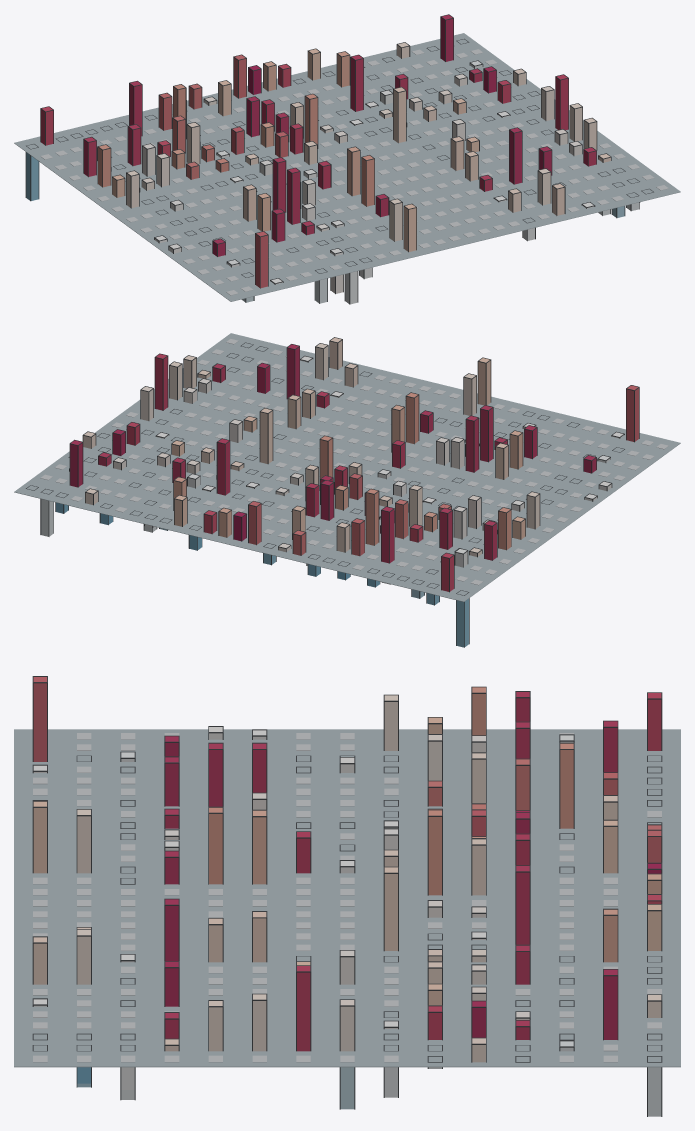
File: kilim_v4.glb
3 renders of one model, top to bottom at view 1: azimuth 30°, elevation 25°; view 2: azimuth 150°, elevation 25°; view 3: azimuth 270°, elevation 25°, orthographic. The views are drawn at different scales.
Visible parts, largest first — view 1: world; view 2: world; view 3: world.
Boxes of the visible parts, left/top/right/bottom form: world: left=14, top=14, right=680, bottom=304; world: left=14, top=333, right=680, bottom=647; world: left=14, top=676, right=680, bottom=1116.
Bounding box in the file's own units: 0.5688 × 0.1253 × 0.475.
